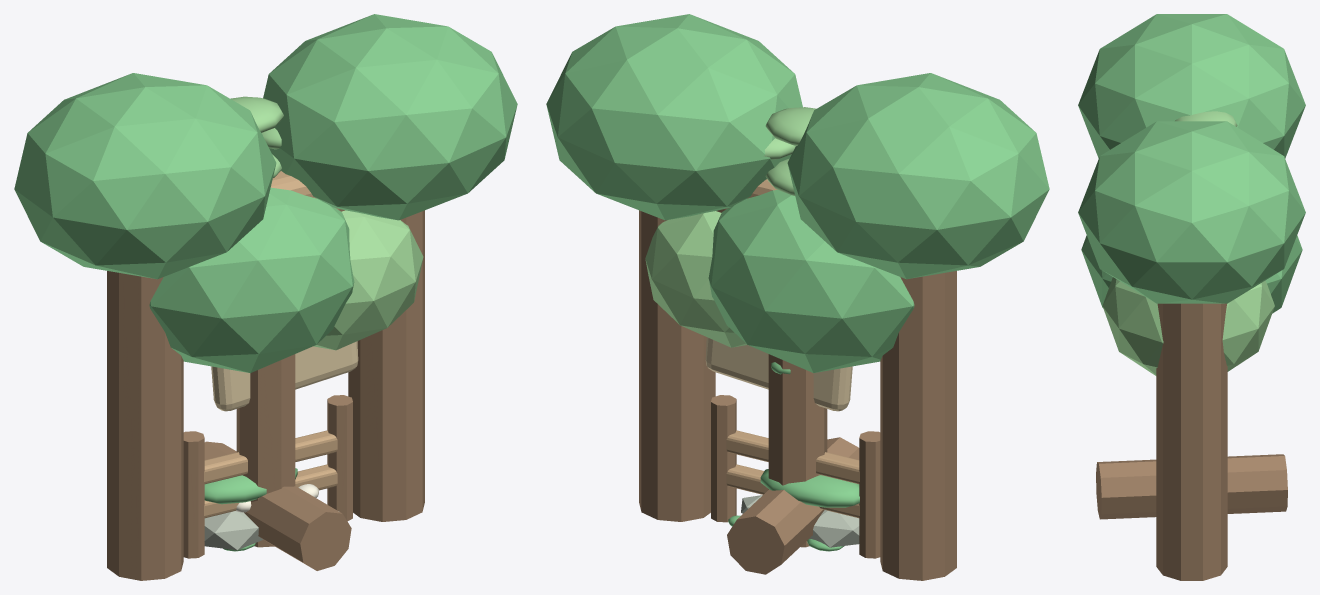
File: clover-road-kit.glb
The picture shows the model from 3 angles, left to right: view 1: azimuth 30°, elevation 25°; view 2: azimuth 150°, elevation 25°; view 3: azimuth 270°, elevation 25°; orthographic projection. The views are drawn at different scales.
Parts seen in each view (by area): view 1: GateCrown_-0.78, GateCrown_0.78, TreeCrownA, GatePost_-0.78, GatePost_0.78, TreeCrownB, TreeTrunk, FallenLogBody, SignBoard, FencePost_-0.48, FencePost_0.48, FenceRail_0.48 (+4 smaller); view 2: GateCrown_-0.78, GateCrown_0.78, TreeCrownA, GatePost_-0.78, GatePost_0.78, TreeCrownB, TreeTrunk, FallenLogBody, SignBoard, FencePost_0.48, FencePost_-0.48, LogMoss (+5 smaller); view 3: GateCrown_0.78, GateCrown_-0.78, GatePost_0.78, FallenLogBody, TreeCrownB, TreeCrownA, GateClover_1.
Boxes of the visible parts, x1,y1,x2,y2 form: GateCrown_-0.78: [14, 73, 276, 279]; GateCrown_0.78: [263, 14, 517, 220]; TreeCrownA: [149, 187, 354, 373]; GatePost_-0.78: [107, 271, 183, 580]; GatePost_0.78: [348, 210, 424, 521]; TreeCrownB: [313, 210, 423, 350]; TreeTrunk: [236, 354, 295, 547]; FallenLogBody: [204, 441, 351, 570]; SignBoard: [211, 341, 358, 411]; FencePost_-0.48: [183, 431, 204, 558]; FencePost_0.48: [327, 395, 352, 521]; FenceRail_0.48: [204, 430, 337, 484]; GateCrown_-0.78: [787, 73, 1049, 279]; GateCrown_0.78: [546, 14, 802, 220]; TreeCrownA: [708, 190, 914, 373]; GatePost_-0.78: [880, 271, 956, 580]; GatePost_0.78: [639, 210, 715, 521]; TreeCrownB: [645, 211, 746, 347]; TreeTrunk: [768, 354, 827, 547]; FallenLogBody: [727, 437, 859, 574]; SignBoard: [705, 337, 852, 411]; FencePost_0.48: [711, 395, 736, 522]; FencePost_-0.48: [859, 431, 880, 558]; LogMoss: [760, 469, 859, 507]; GateCrown_0.78: [1078, 121, 1305, 303]; GateCrown_-0.78: [1078, 14, 1305, 158]; GatePost_0.78: [1156, 303, 1227, 580]; FallenLogBody: [1096, 454, 1287, 519]; TreeCrownB: [1102, 277, 1274, 375]; TreeCrownA: [1081, 235, 1302, 313]; GateClover_1: [1175, 111, 1237, 126].
Bounding box in the file's own units: 3.01 × 2.97 × 1.4.
